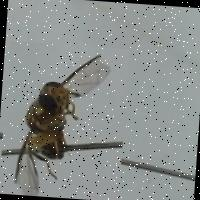Oriental-fruit-fly: (0, 39, 127, 200)
